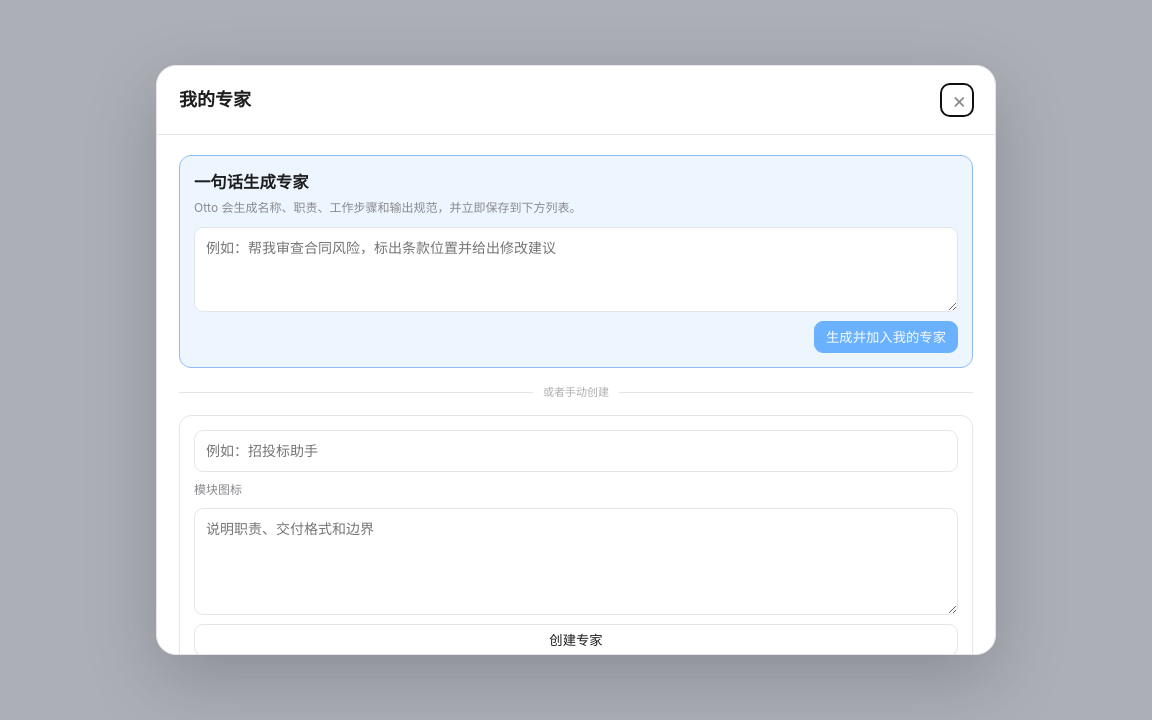
Scenario: WorkspaceDialogs › 自动生成失败时保留需求并显示真实错误
Type "生成周报专家" into the text box named "一句话专家需求" at (576, 269), box top-left (194, 227), bottom-right (958, 312)
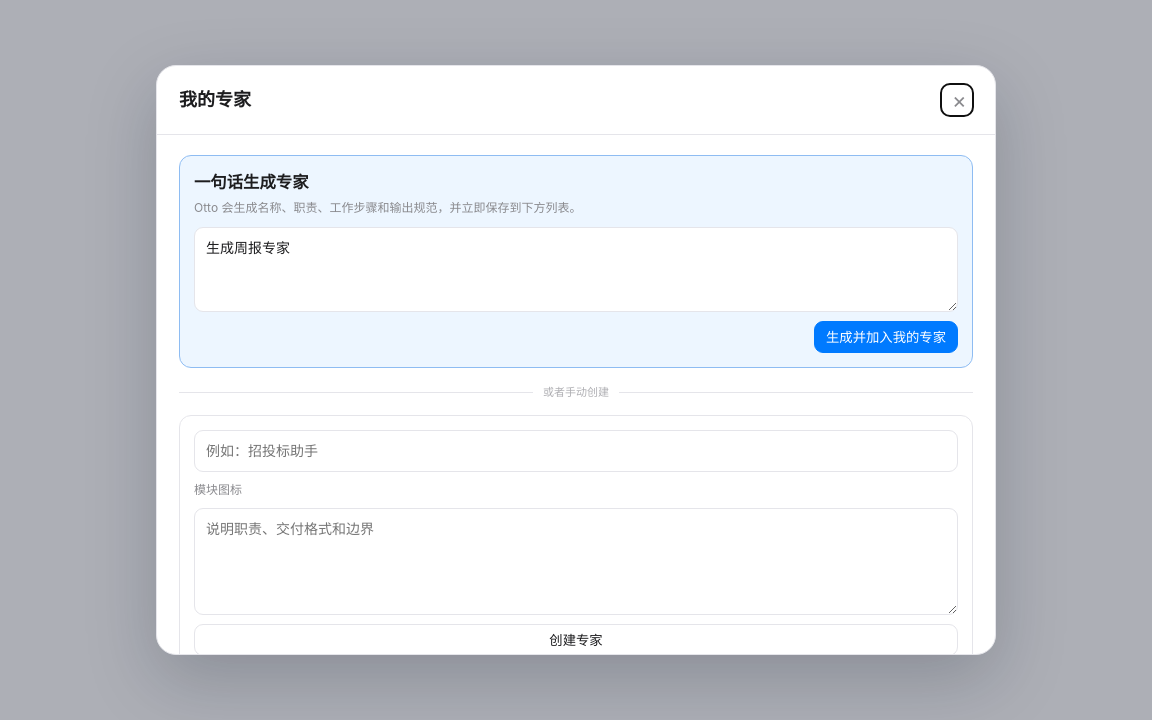
Click the button "生成并加入我的专家" at (886, 337), box top-left (814, 321), bottom-right (958, 353)
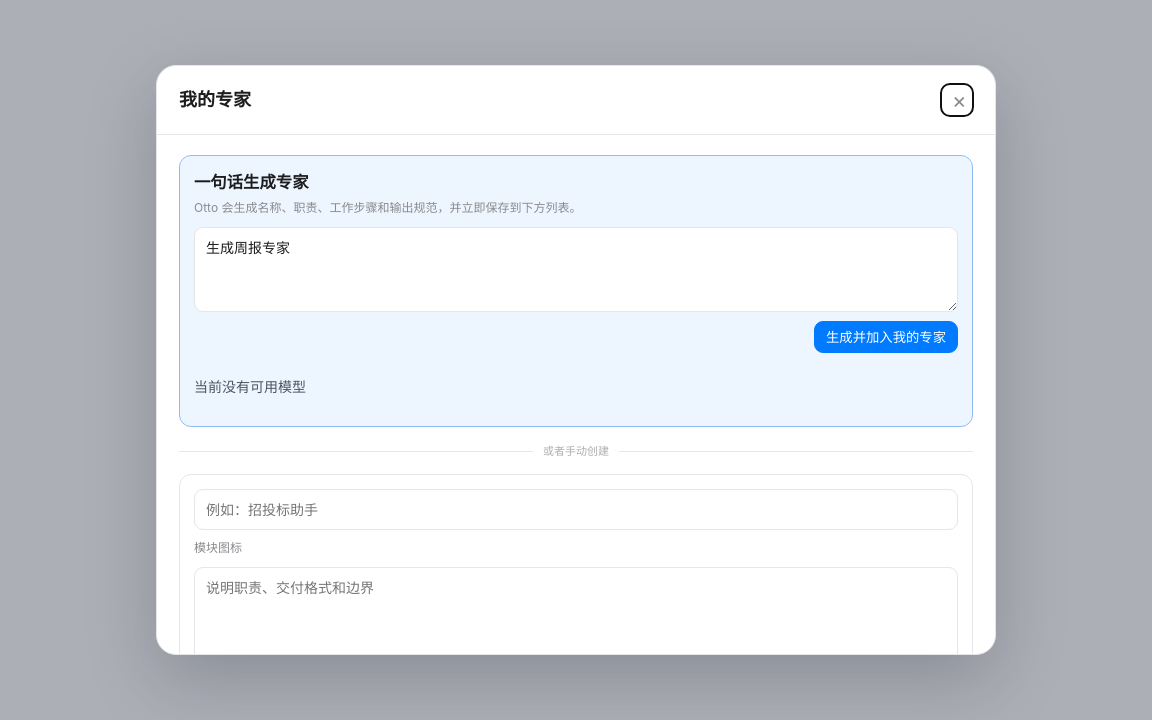
Now the message reads "当前没有可用模型", box top-left (194, 378), bottom-right (306, 395)
